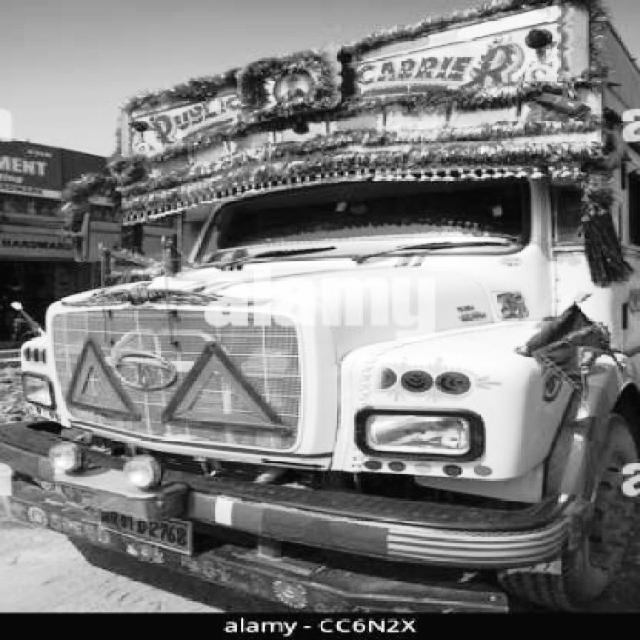HCV: (68, 77, 627, 586)
